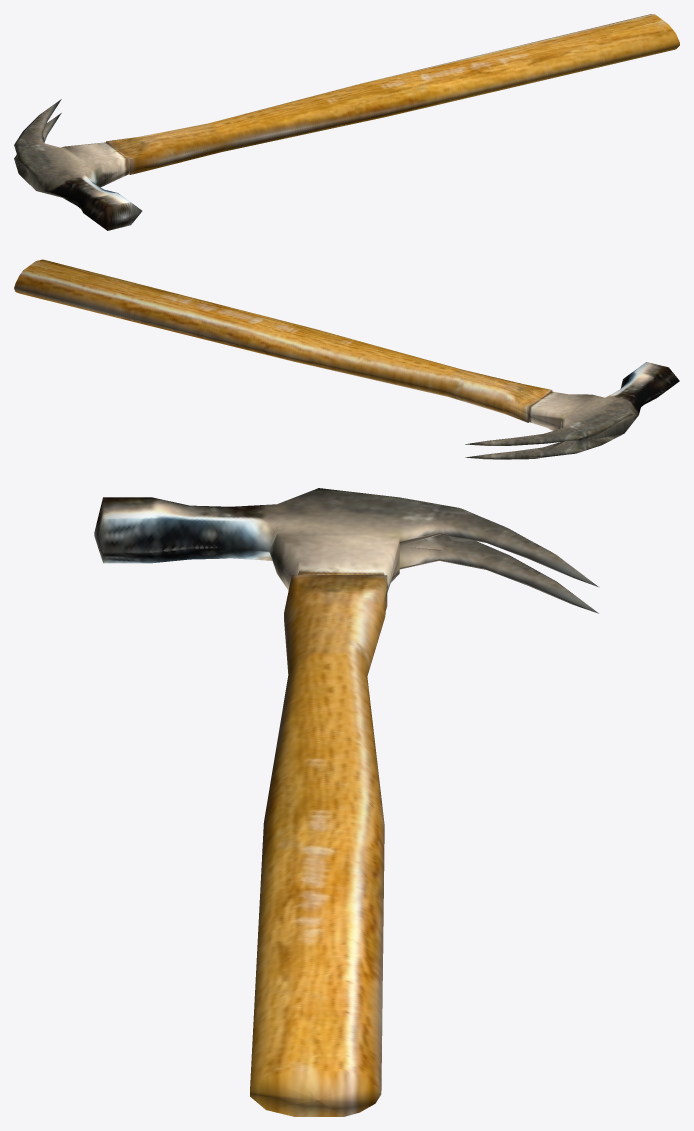
Rendered from hammer_04_origin.dae.
3 views of the same model, one above another, from view 1: azimuth 30°, elevation 25°; view 2: azimuth 150°, elevation 25°; view 3: azimuth 270°, elevation 25° (orthographic). The views are drawn at different scales.
Parts seen in each view (by area): view 1: group_0; view 2: group_0; view 3: group_0.
Boxes of the visible parts, x1,y1,x2,y2 form: group_0: (14,14,679,230); group_0: (14,259,679,459); group_0: (94,488,599,1116).
Bounding box in the file's own units: 19.45 × 7.02 × 0.7423.
Materials: 1 (1 with a texture image).
